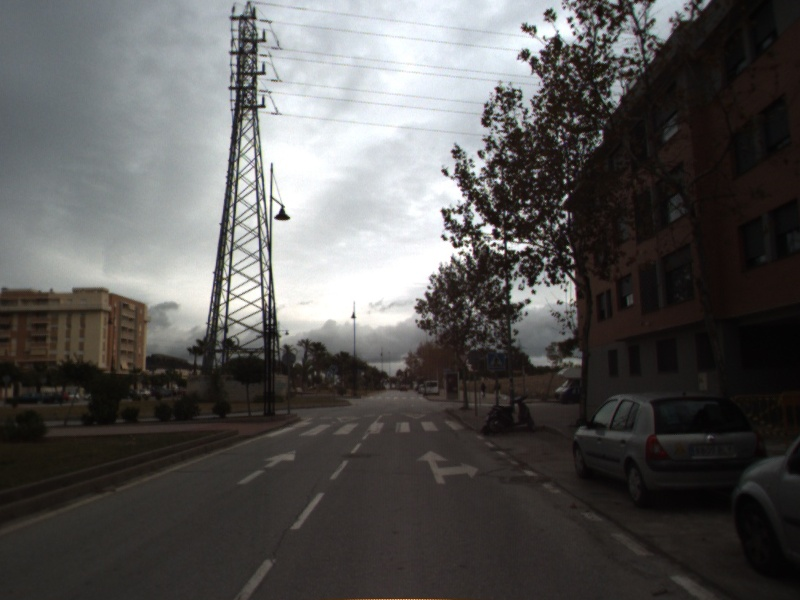STRAIGHT: (234, 448, 297, 487)
STRAIGHT_RIGHT: (414, 448, 480, 486)
